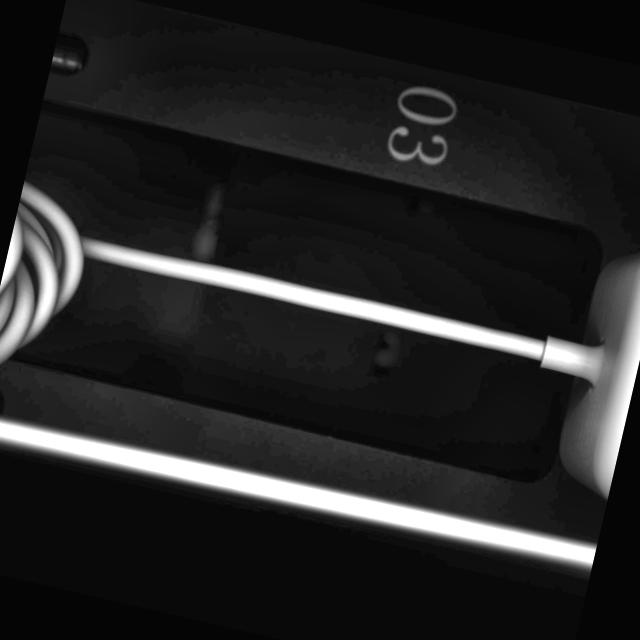Cable: (0, 99, 640, 519)
